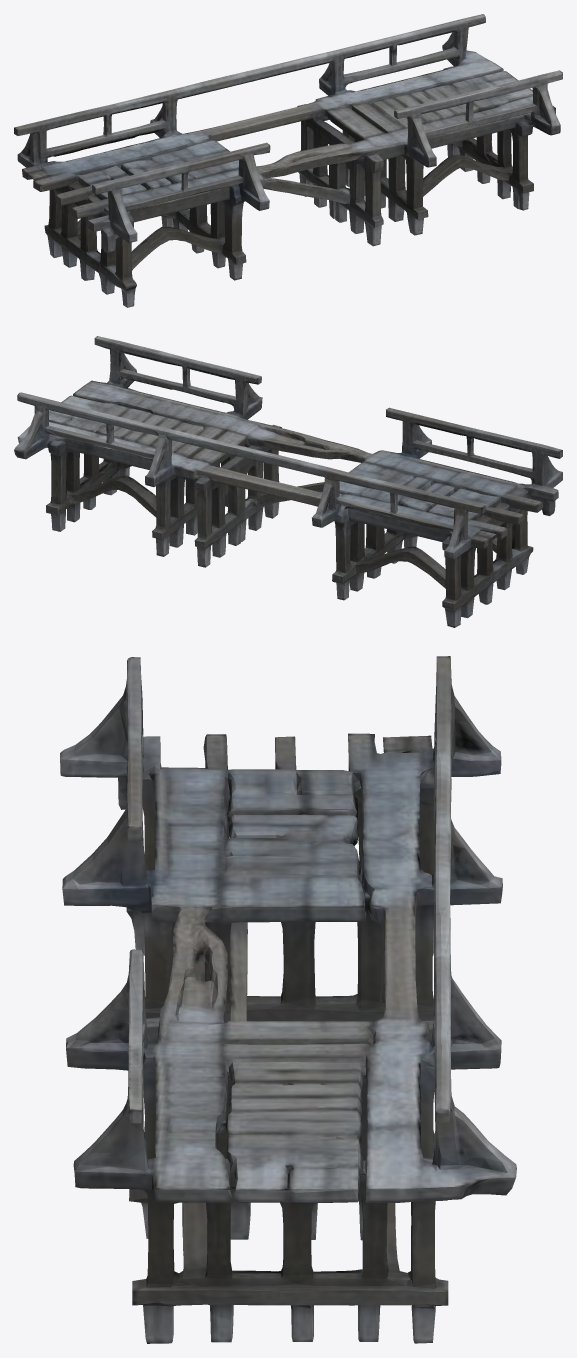
Rendered from pont-gele.glb.
3 renders of one model, top to bottom at view 1: azimuth 30°, elevation 25°; view 2: azimuth 150°, elevation 25°; view 3: azimuth 270°, elevation 25°, orthographic. The views are drawn at different scales.
Parts seen in each view (by area): view 1: world; view 2: world; view 3: world.
Part boxes in pixels (<box>): world: <box>14,14,562,307</box>; world: <box>14,336,562,627</box>; world: <box>60,656,516,1343</box>.
Size of the model in its own units: 1 by 0.2711 by 0.4251.
1 material, 1 textured.
